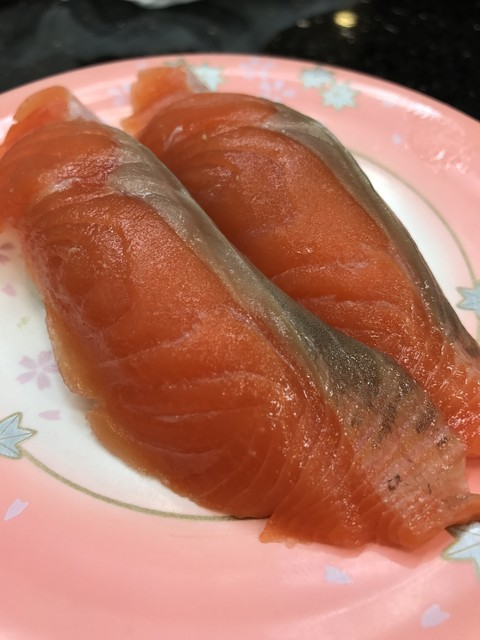salmon: (12, 94, 463, 542)
